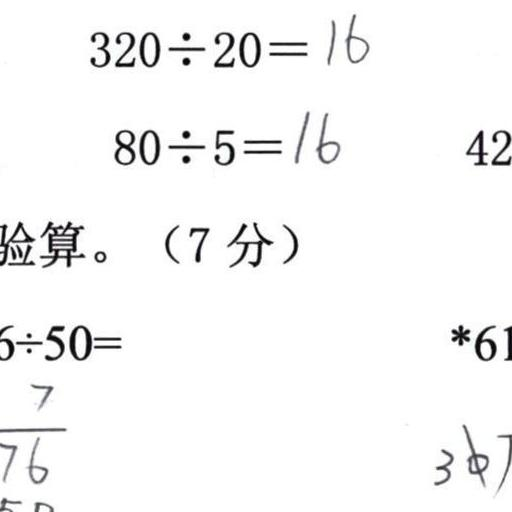ans: (288, 105, 340, 165), (320, 8, 369, 65)
